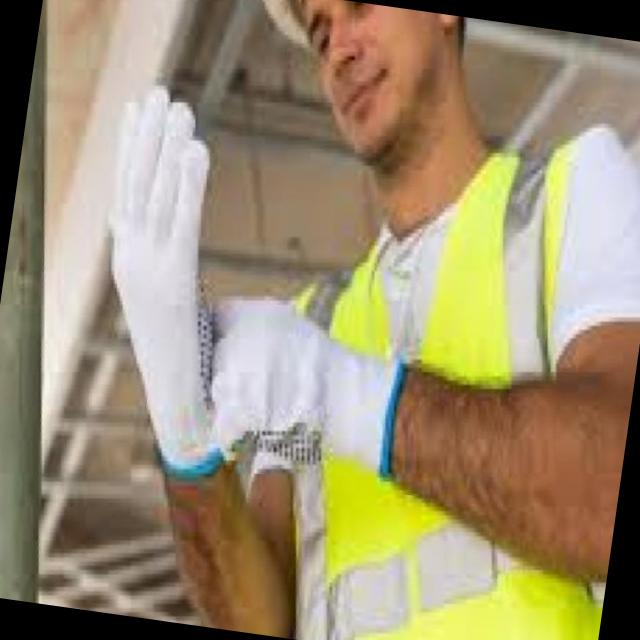gloved: (42, 47, 271, 490), (198, 251, 429, 512)
